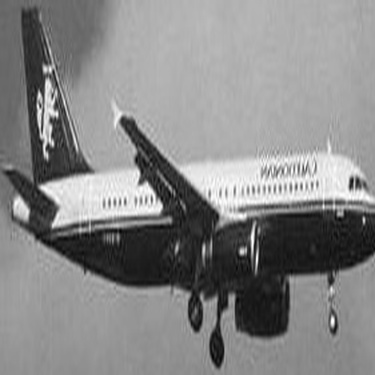airplane: (14, 19, 372, 373)
